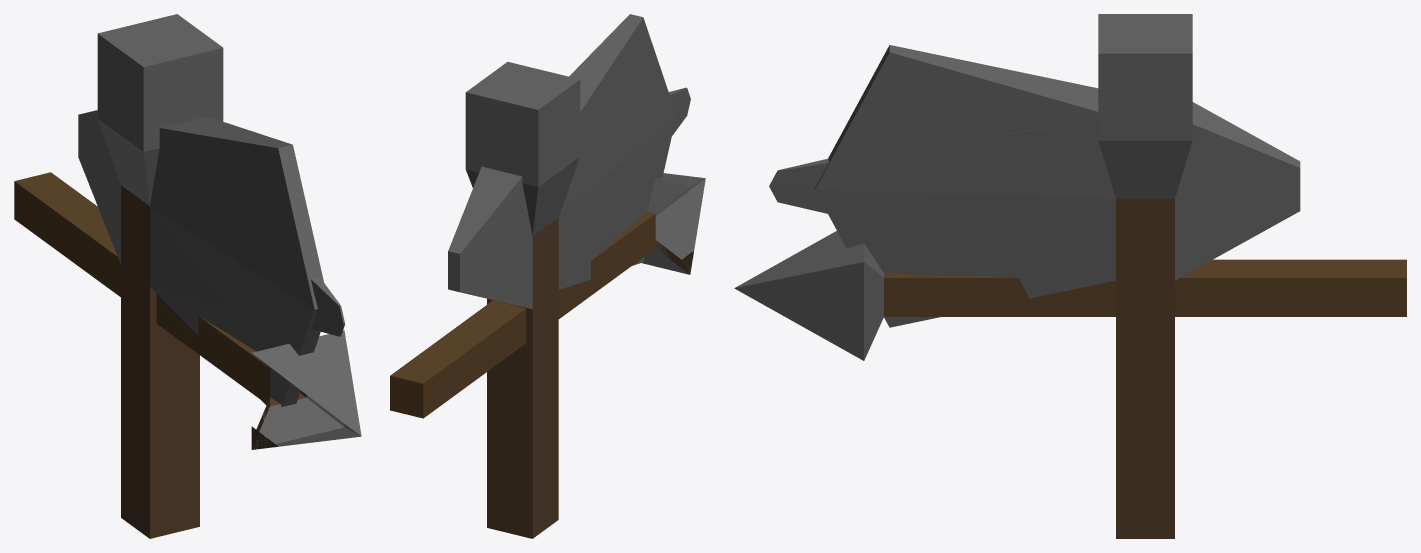
Rendered from Pawn_Vikings_Items_FBX.fbx.
The picture shows the model from 3 angles, left to right: view 1: azimuth 30°, elevation 25°; view 2: azimuth 150°, elevation 25°; view 3: azimuth 270°, elevation 25°; orthographic projection. The views are drawn at different scales.
Visible parts, largest first — view 1: Axe, Arrow, Torch, PickAxe; view 2: Axe, Arrow, Torch, PickAxe; view 3: Axe, Arrow, PickAxe, Torch.
Part boxes in pixels (bbox=[...]): Axe: bbox=[121, 116, 323, 538]; Arrow: bbox=[14, 172, 361, 449]; Torch: bbox=[97, 14, 223, 205]; PickAxe: bbox=[78, 110, 344, 336]; Axe: bbox=[487, 14, 676, 538]; Arrow: bbox=[390, 173, 705, 418]; Torch: bbox=[465, 61, 580, 235]; PickAxe: bbox=[448, 87, 690, 309]; Axe: bbox=[815, 45, 1174, 538]; Arrow: bbox=[734, 231, 1406, 360]; PickAxe: bbox=[769, 102, 1300, 280]; Torch: bbox=[1098, 14, 1192, 198].
Size of the model in its own units: 52.05 by 319 by 258.
1 material, 1 textured.
